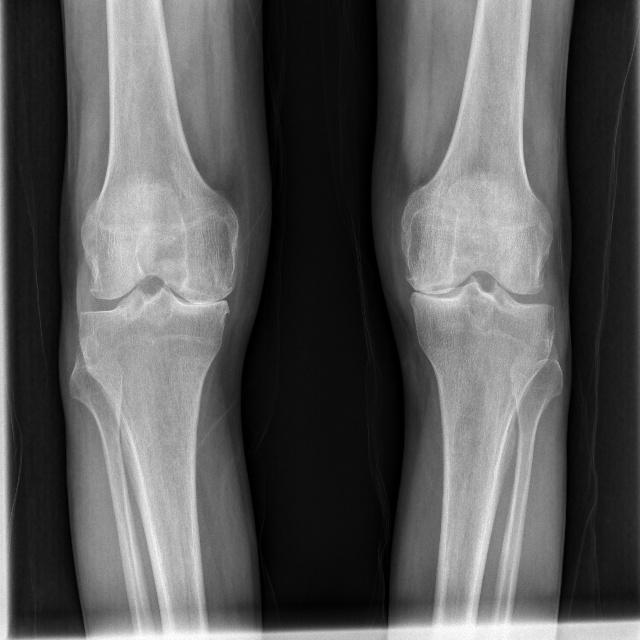Knee: (75, 215, 239, 364), (397, 211, 555, 357)
